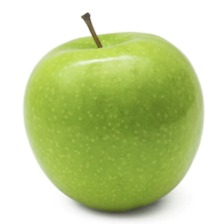apple: (23, 63, 206, 203)
